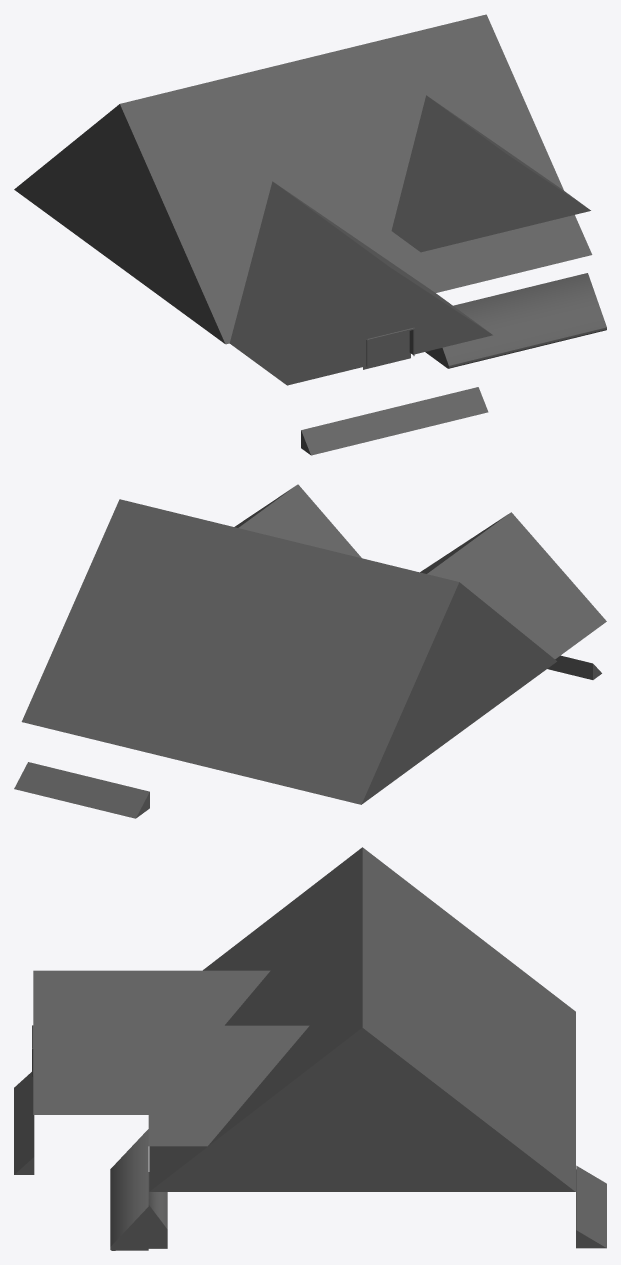
File: Techo_Casa.obj
3 renders of one model, top to bottom at view 1: azimuth 30°, elevation 25°; view 2: azimuth 150°, elevation 25°; view 3: azimuth 270°, elevation 25°, orthographic. The views are drawn at different scales.
Visible parts, largest first — view 1: polySurface204; view 2: polySurface204; view 3: polySurface204.
Part boxes in pixels (x1,y1,x2,y2): polySurface204: (14, 14, 606, 455); polySurface204: (14, 484, 606, 818); polySurface204: (14, 847, 606, 1250).
Size of the model in its own units: 5.98 by 3.58 by 8.3.
Materials: 1 (1 with a texture image).
